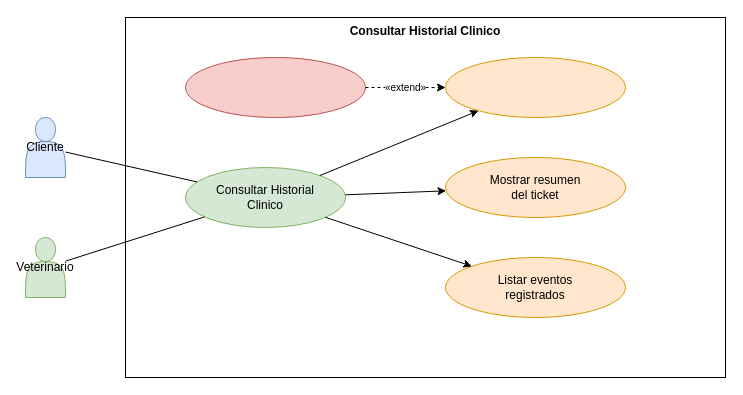
Some shapes in this 743 by 395 pixel diagram are drawn without their labels. Each missing label, with the box of its shape:
Buscar ticket por numero: (444, 56, 626, 118)
Notificar ticket no encontrado: (184, 56, 366, 118)
